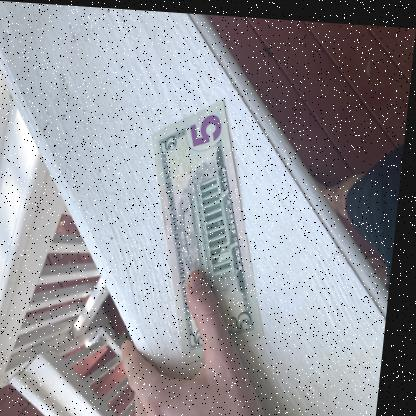five-back: (148, 102, 262, 366)
